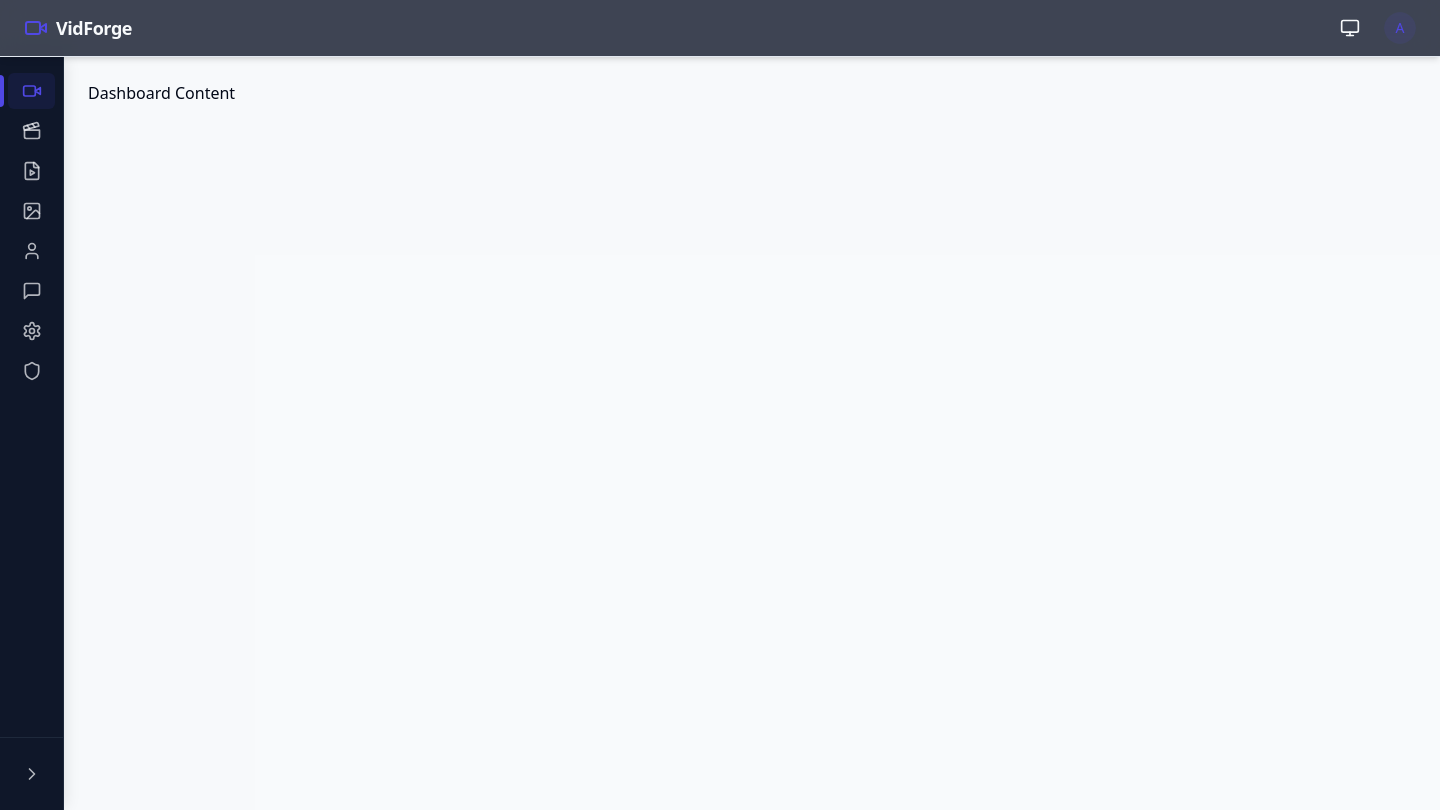
Test case: Layout Sidebar Submenu (collapsed desktop) › clicking a group in the collapsed sidebar opens a submenu view with Back
Click the button titled "Admin": (32, 371) [8,353,55,389]
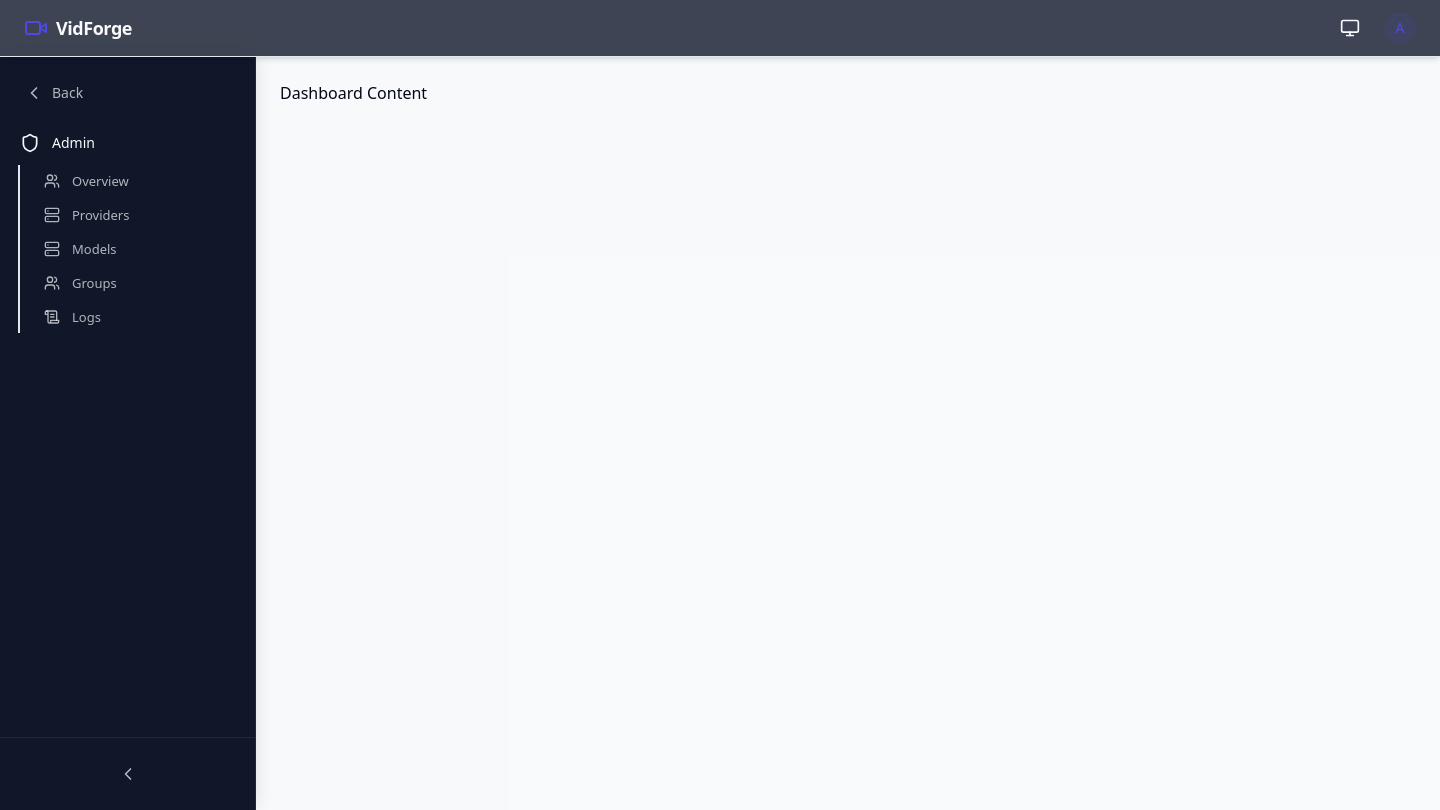
Expected: the text "Back" is shown, [52,83,83,103]
Expected: the text "Overview" is shown, [72,171,129,191]
Expected: the text "Providers" is shown, [72,205,130,225]
